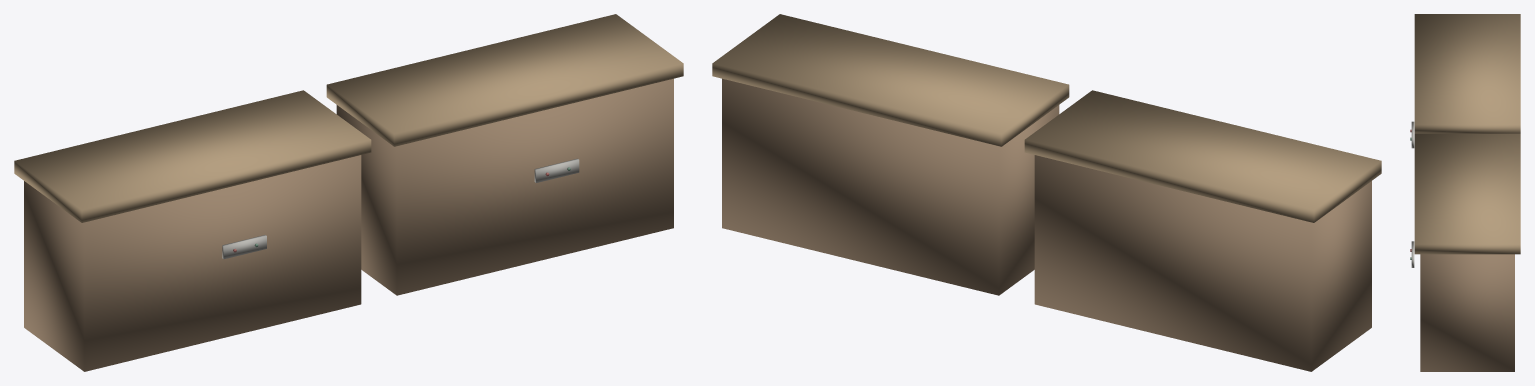
The model's file is bank_teller_counter__cluster.glb.
3 renders of one model, left to right at view 1: azimuth 30°, elevation 25°; view 2: azimuth 150°, elevation 25°; view 3: azimuth 270°, elevation 25°, orthographic. The views are drawn at different scales.
Visible parts, largest first — view 1: world; view 2: world; view 3: world.
Part boxes in pixels (bbox=[...]): world: bbox=[14, 14, 683, 371]; world: bbox=[712, 14, 1381, 371]; world: bbox=[1410, 14, 1520, 371].
Bounding box in the file's own units: 3.91 × 1.03 × 0.791.
